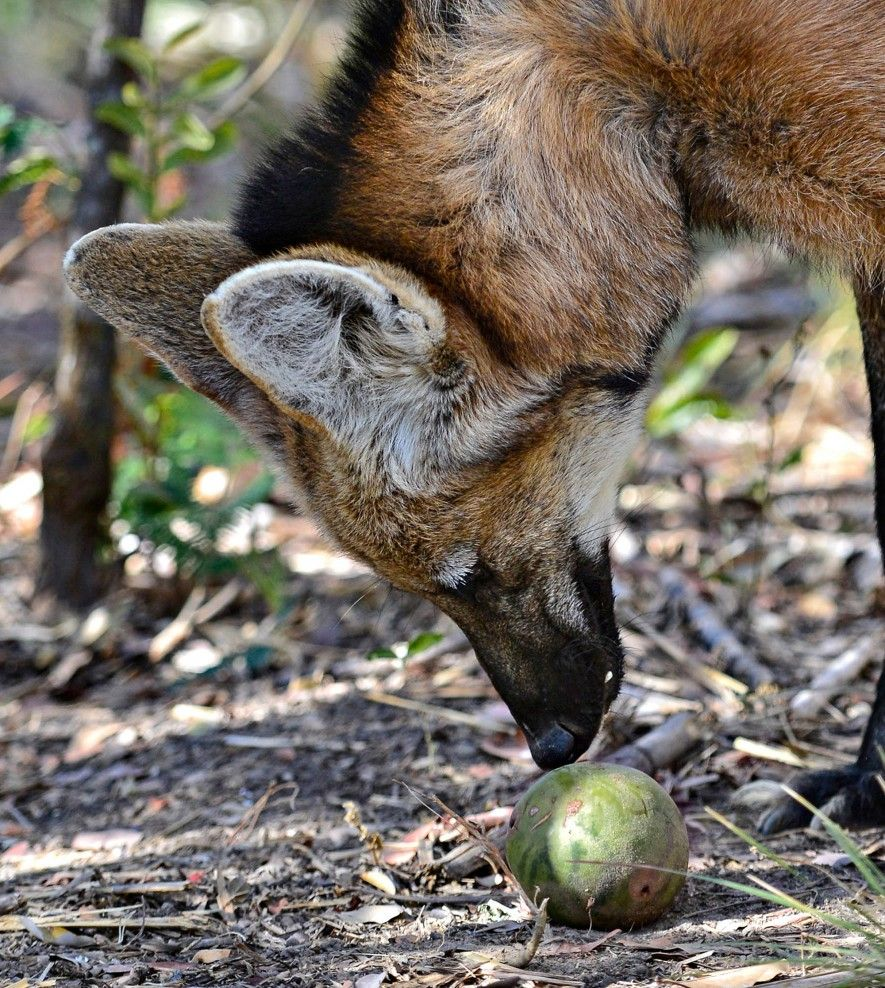LoboGuara: (43, 8, 878, 764)
